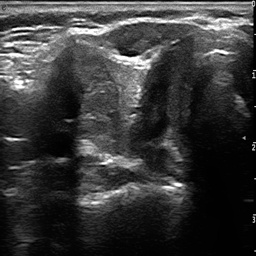mass: (52, 45, 116, 140)
